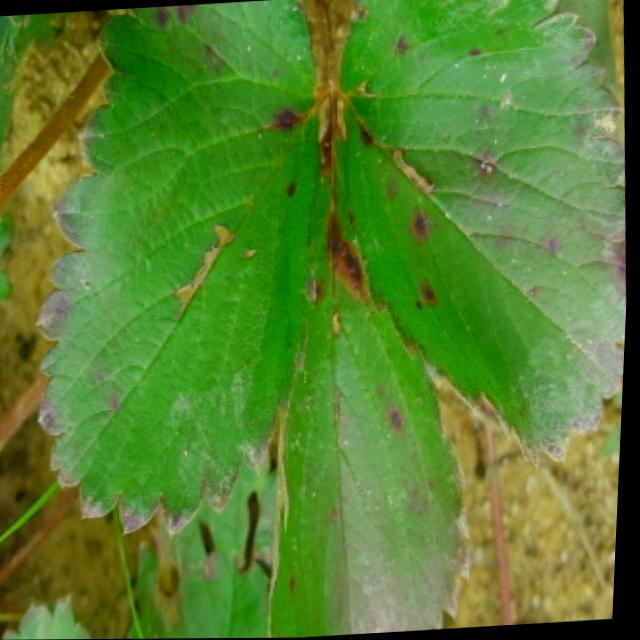Leaf Spot: (35, 0, 322, 541), (330, 0, 629, 471), (274, 106, 475, 638)
